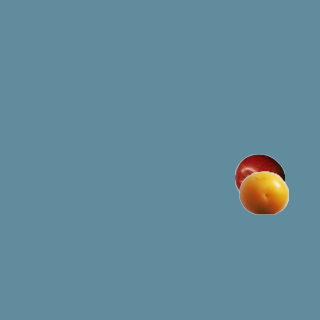Apple Braeburn: (234, 153, 284, 203)
Cherry Wax Yellow: (238, 167, 288, 217)
